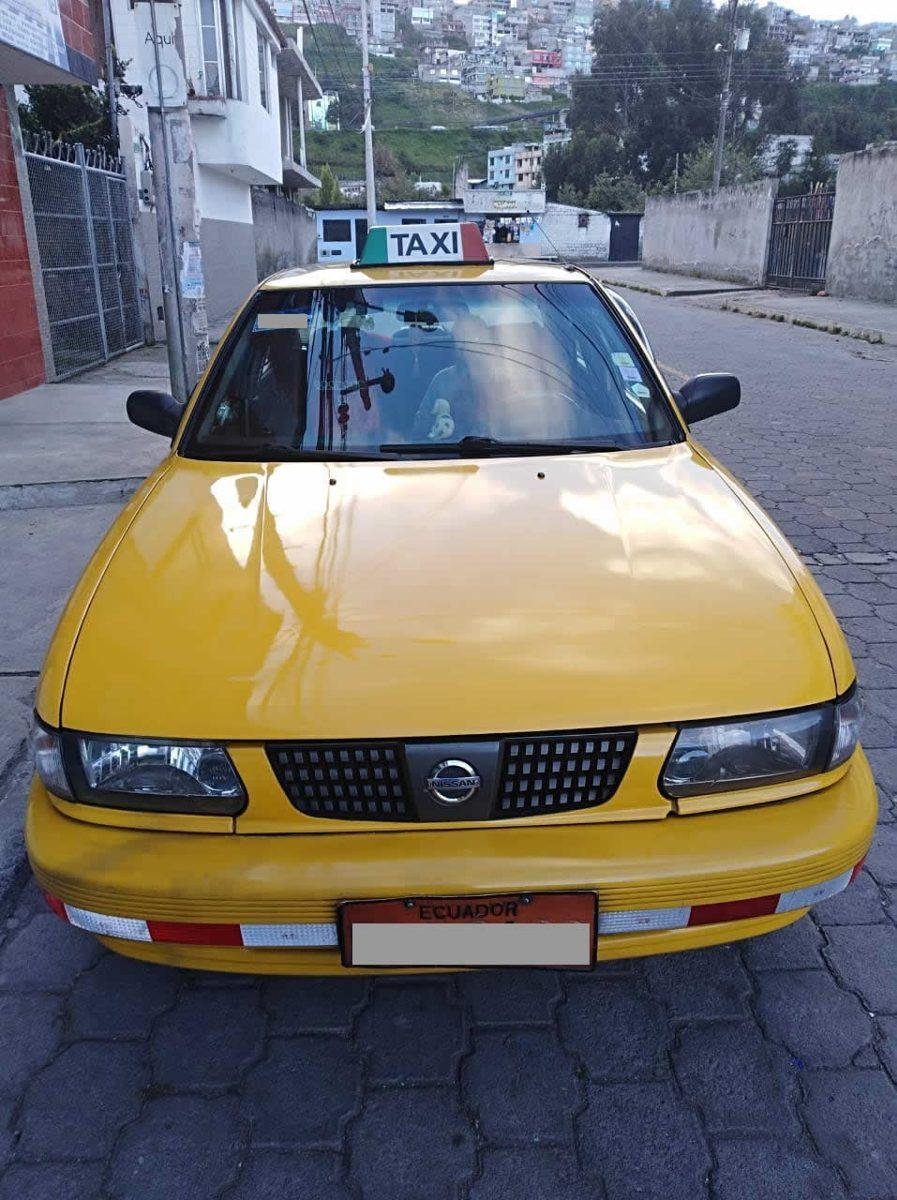taxi: (1, 191, 897, 1097)
